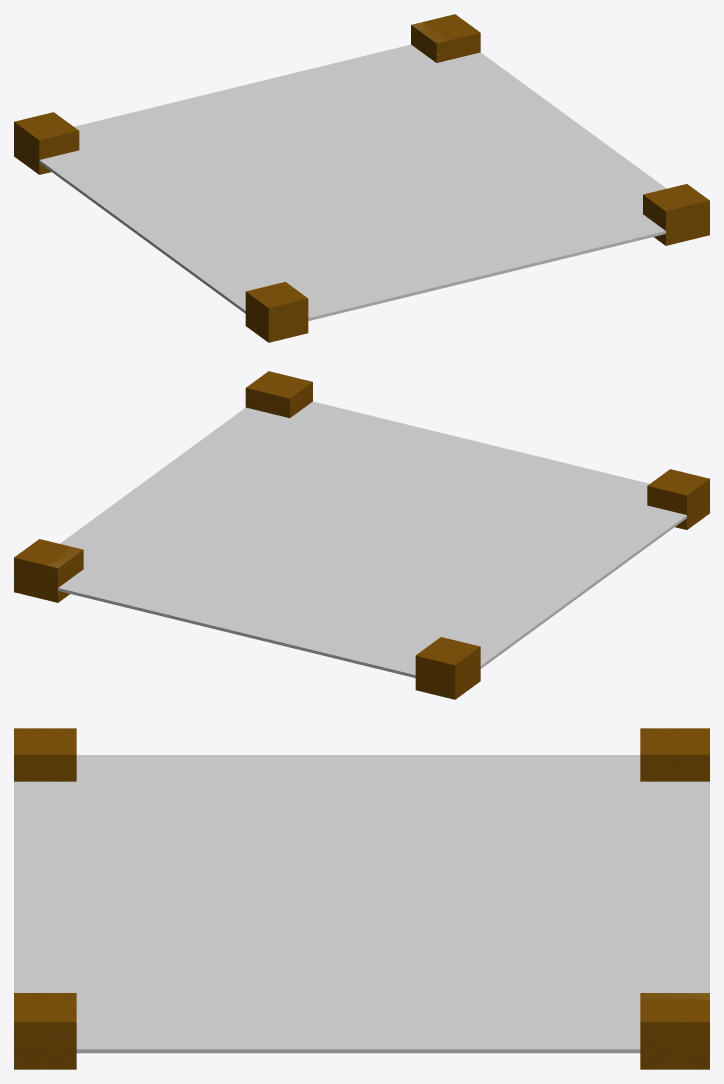
Rendered from FI-005 Walkways-X.fbx.
3 renders of one model, top to bottom at view 1: azimuth 30°, elevation 25°; view 2: azimuth 150°, elevation 25°; view 3: azimuth 270°, elevation 25°, orthographic. The views are drawn at different scales.
Parts seen in each view (by area): view 1: FI-005-T-Walkway; view 2: FI-005-T-Walkway; view 3: FI-005-T-Walkway.
Boxes of the visible parts, left/top/right/bottom form: FI-005-T-Walkway: left=14, top=14, right=709, bottom=342; FI-005-T-Walkway: left=14, top=371, right=709, bottom=699; FI-005-T-Walkway: left=14, top=728, right=709, bottom=1069.
Size of the model in its own units: 200 by 15 by 200.
